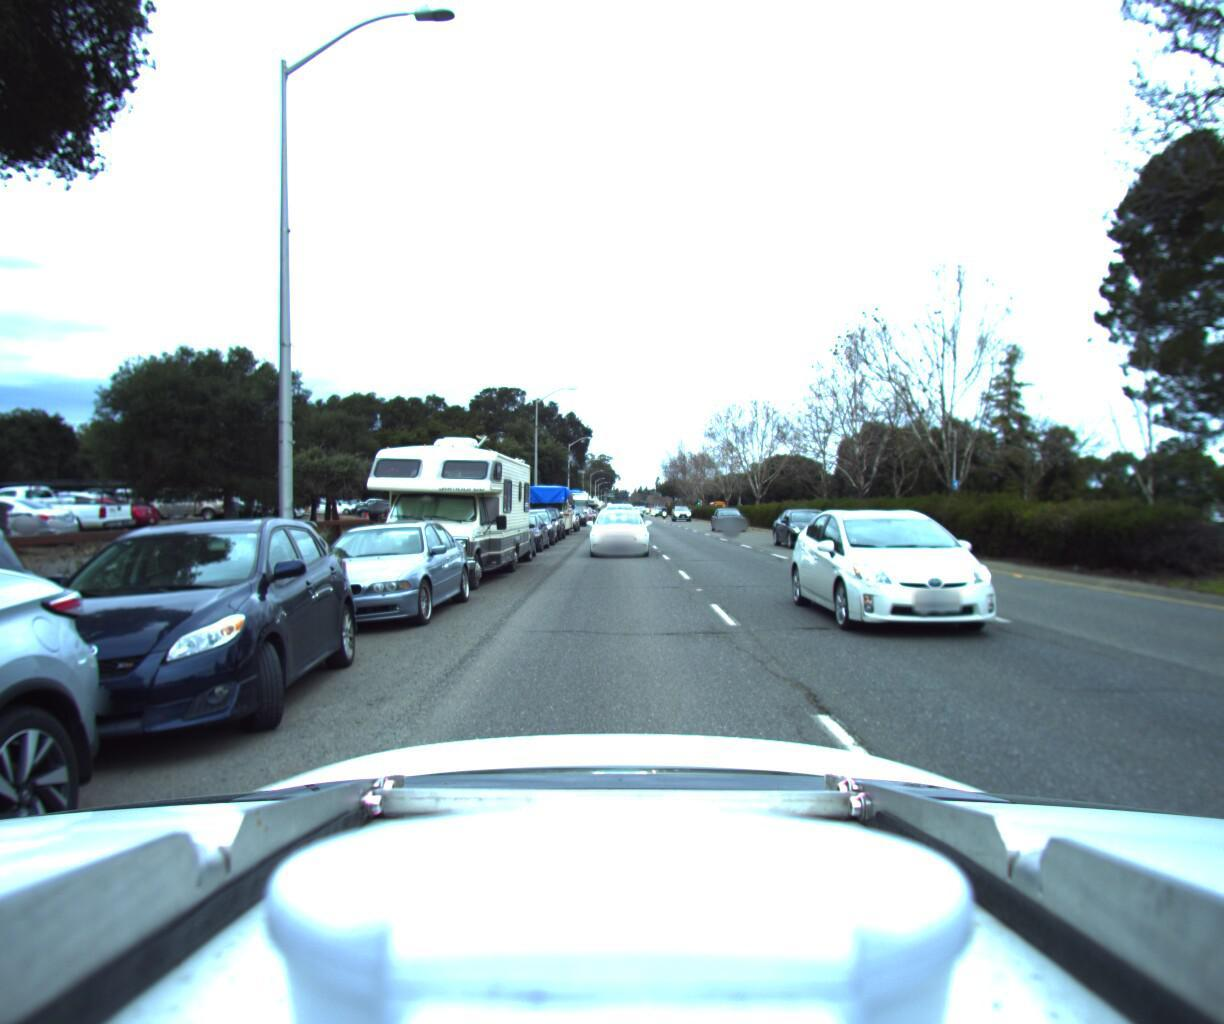car: (801, 501, 1092, 668), (272, 513, 478, 642), (466, 502, 536, 562), (769, 500, 848, 547), (588, 502, 650, 556), (489, 506, 550, 551), (509, 499, 558, 542), (522, 499, 565, 537), (709, 502, 748, 529), (546, 497, 580, 525), (673, 498, 695, 514)
other_vehicle: (340, 414, 534, 592), (518, 476, 574, 531), (558, 479, 589, 518)
